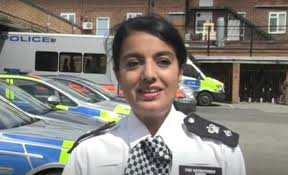indian_female: (90, 6, 193, 119)
